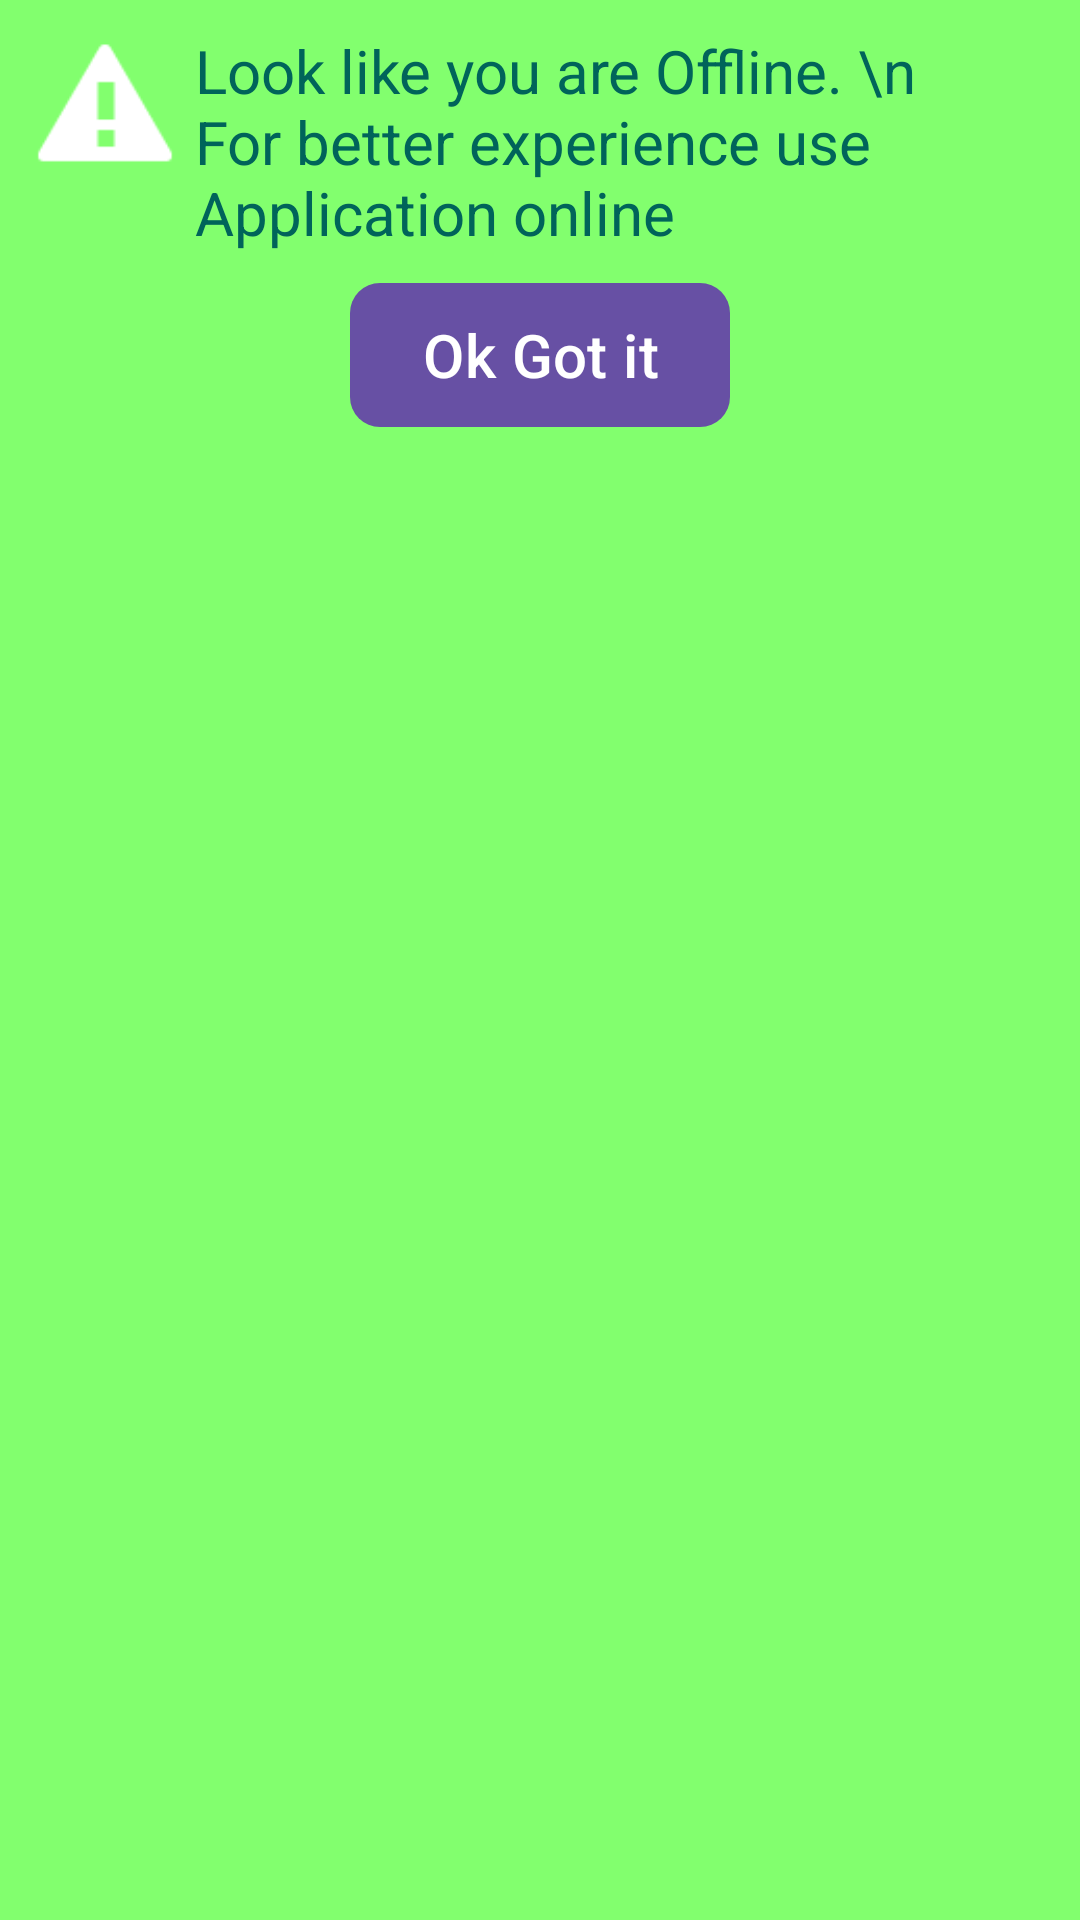

Icon click points for this 1080 x 1920 phone screenshot, format (x=x, y=y):
error: (x=105, y=103)
